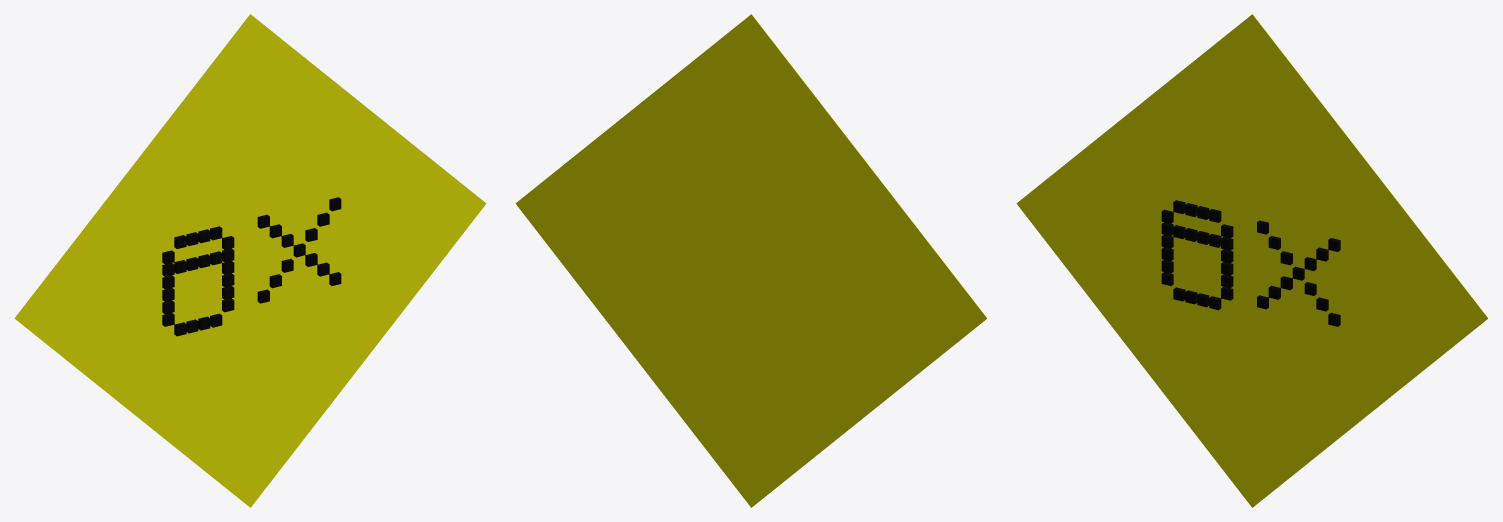
The model's file is MyTrashToExclusion.fbx.
3 views of the same model, side by side, from view 1: azimuth 30°, elevation 25°; view 2: azimuth 150°, elevation 25°; view 3: azimuth 330°, elevation 25° (orthographic).
Parts seen in each view (by area): view 1: Cube.001; view 2: Cube.001; view 3: Cube.001.
Part boxes in pixels (x1,y1,x2,y2): Cube.001: (14,14,486,507); Cube.001: (515,14,987,507); Cube.001: (1016,14,1488,507).
Size of the model in its own units: 198 by 198 by 2.1.
